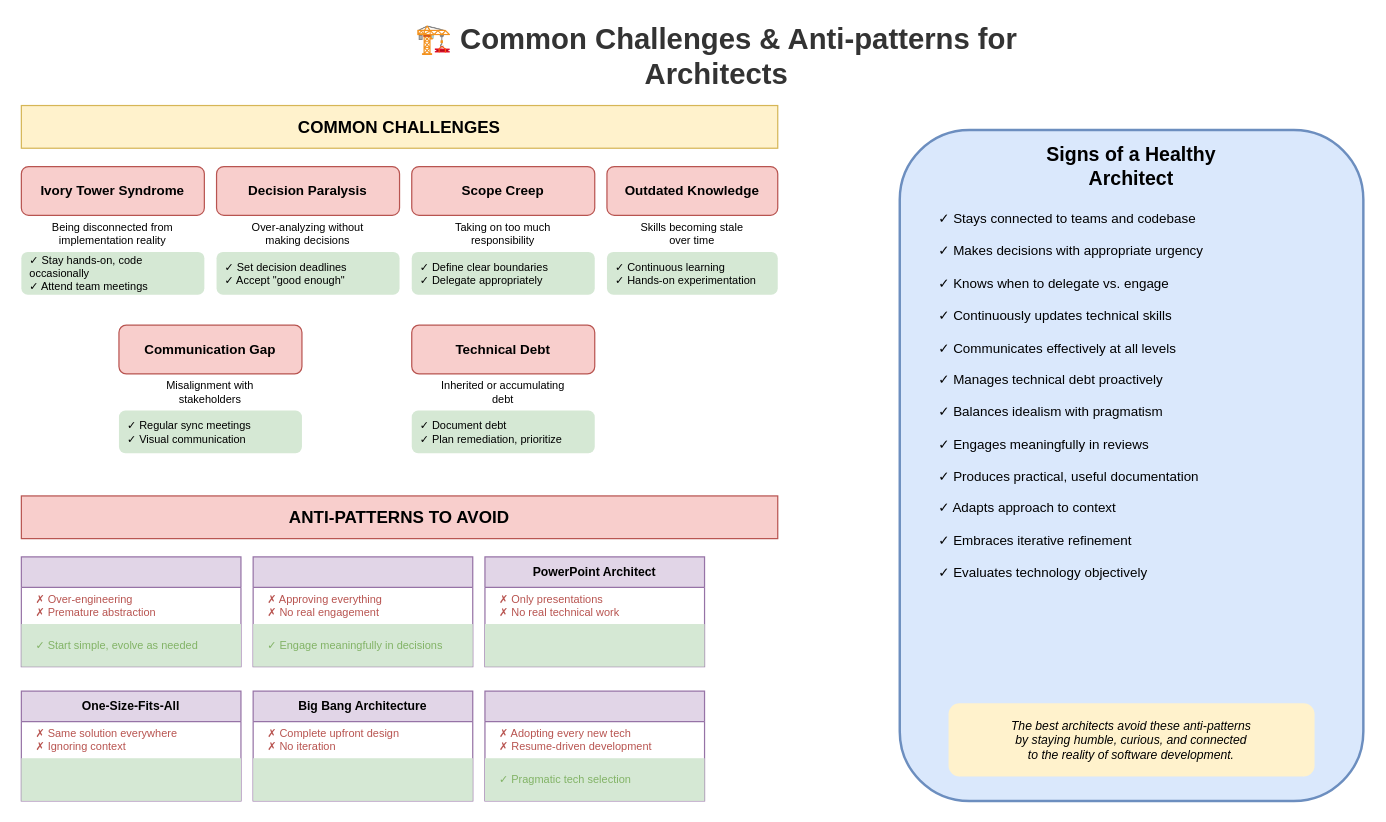
Image size: 1386x822. Some labels were removed from this diagram. Here are the shapes that lost their labels. From the top down, the box of each, then its label:
(20, 556, 241, 667): Architecture Astronaut
(252, 556, 473, 667): Rubber Stamp Architect
(484, 623, 704, 666): ✓ Produce actionable artifacts
(484, 690, 705, 801): Technology Hype Chaser
(21, 758, 240, 800): ✓ Context-appropriate decisions
(253, 758, 472, 800): ✓ Evolutionary architecture
